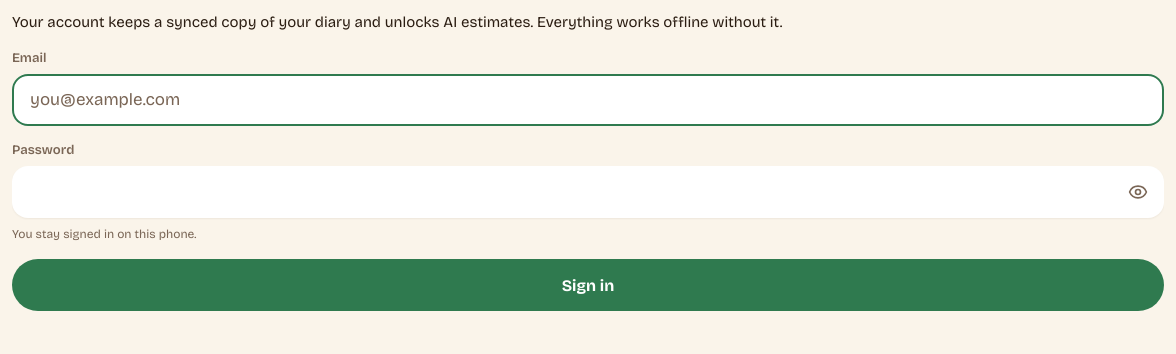
Scenario: SignInPanel › shows an email problem under the email field
Type "fabian@example" into the field labelled "Email" at (588, 100), box x1=28 y1=74 x2=1148 y2=126
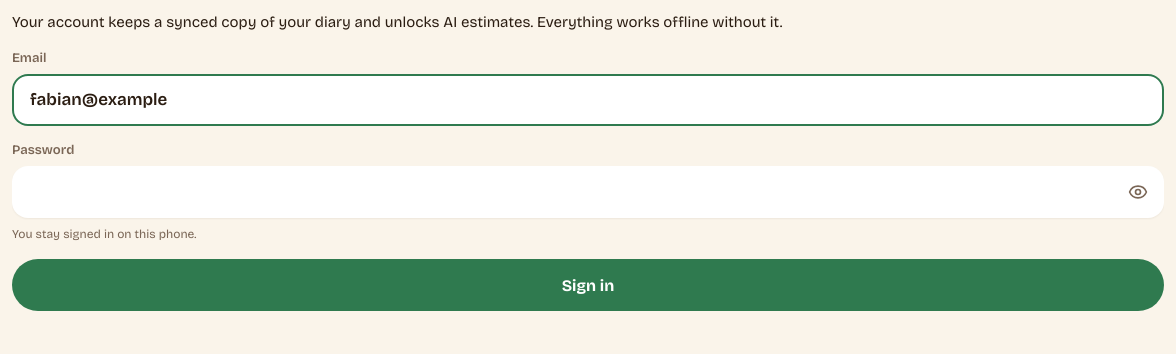
Type "correct horse battery staple" into the password field labelled "Password" at (575, 192), box x1=28 y1=166 x2=1122 y2=218
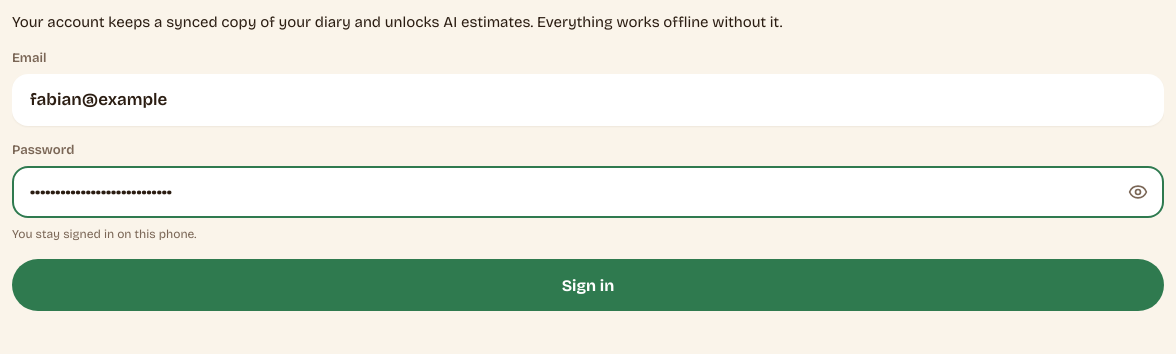
Click the button "Sign in" at (588, 285), box x1=12 y1=259 x2=1164 y2=311
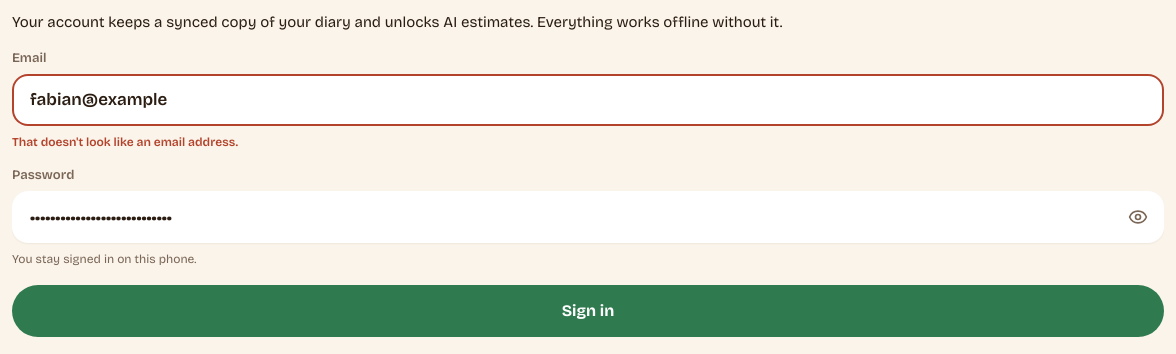
Check: the text "You stay signed in on this phone." is shown, box x1=12 y1=252 x2=196 y2=266
Check: the message reads "That doesn't look like an email address.", box x1=12 y1=135 x2=238 y2=149
